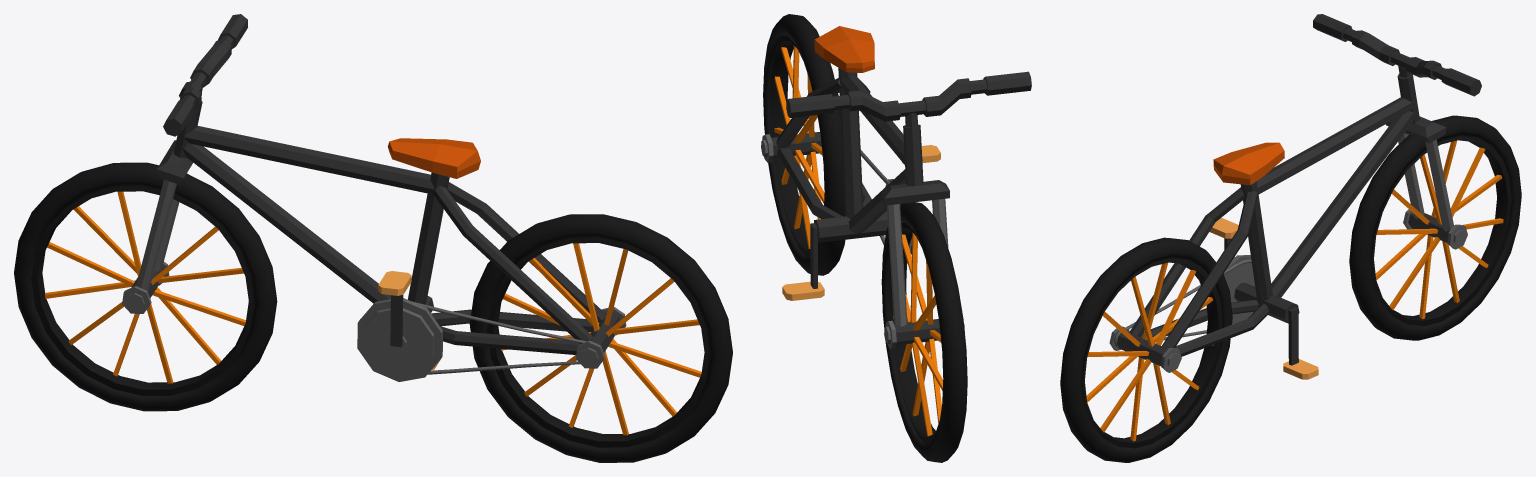
The model's file is Bike.gltf.
3 renders of one model, left to right at view 1: azimuth 30°, elevation 25°; view 2: azimuth 150°, elevation 25°; view 3: azimuth 270°, elevation 25°, orthographic. The views are drawn at different scales.
Visible parts, largest first — view 1: bike; view 2: bike; view 3: bike.
Boxes of the visible parts, bbox=[...] form: bike: bbox=[14, 14, 732, 462]; bike: bbox=[761, 14, 1031, 462]; bike: bbox=[1060, 14, 1521, 462].
Size of the model in its own units: 3.78 by 2.75 by 3.78.
